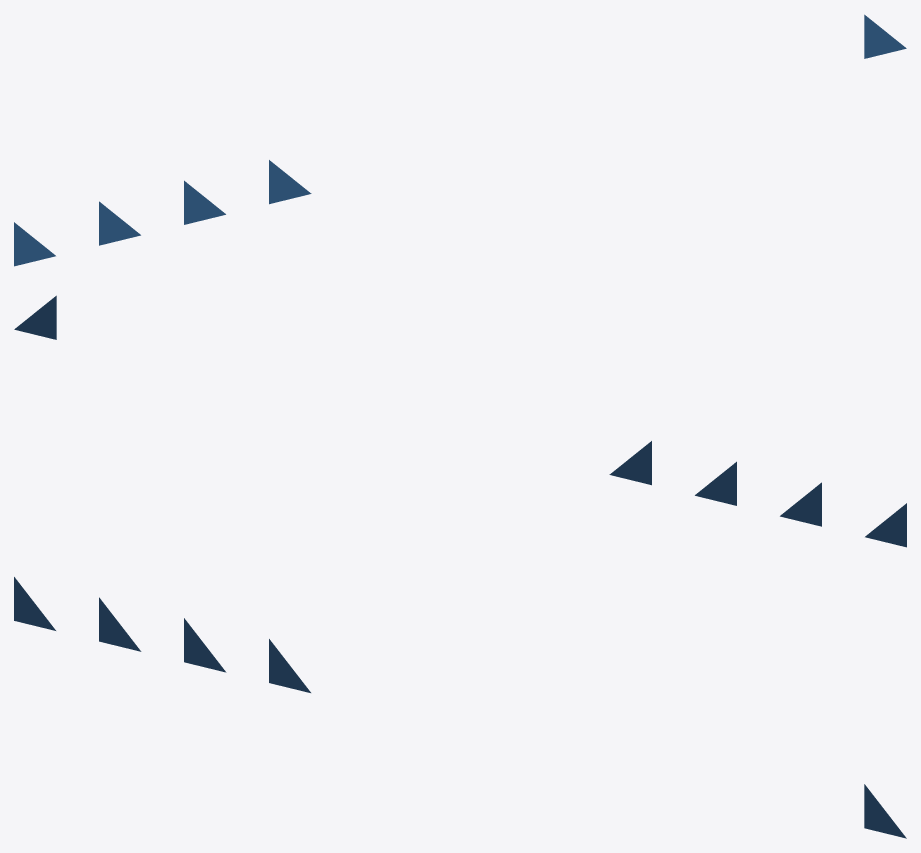
Rendered from pbr_bin.fbx.
3 renders of one model, top to bottom at view 1: azimuth 30°, elevation 25°; view 2: azimuth 150°, elevation 25°; view 3: azimuth 330°, elevation 25°, orthographic.
Parts seen in each view (by area): view 1: Phong, Gltf, SpecGloss, MetalRough, Physical; view 2: Phong, Gltf, SpecGloss, MetalRough, Physical; view 3: Phong, Gltf, SpecGloss, MetalRough, Physical.
Part boxes in pixels (bbox=[...]): Phong: bbox=[864, 14, 906, 58]; Gltf: bbox=[269, 160, 311, 204]; SpecGloss: bbox=[184, 180, 225, 224]; MetalRough: bbox=[99, 201, 140, 245]; Physical: bbox=[14, 222, 55, 266]; Phong: bbox=[14, 295, 56, 339]; Gltf: bbox=[609, 441, 651, 485]; SpecGloss: bbox=[695, 461, 736, 505]; MetalRough: bbox=[780, 482, 821, 526]; Physical: bbox=[865, 503, 906, 547]; Phong: bbox=[864, 784, 906, 838]; Gltf: bbox=[269, 639, 310, 692]; SpecGloss: bbox=[184, 618, 226, 672]; MetalRough: bbox=[99, 597, 141, 651]; Physical: bbox=[14, 577, 55, 630].
Bounding box in the file's own units: 21 × 1 × 0.
